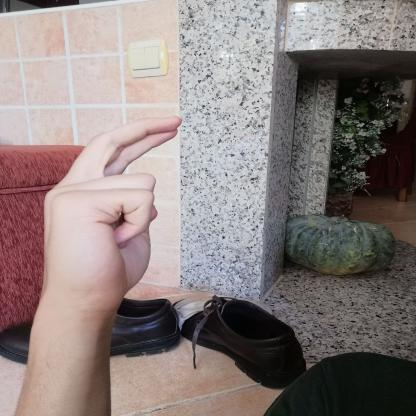ZAY: (29, 107, 198, 313)
